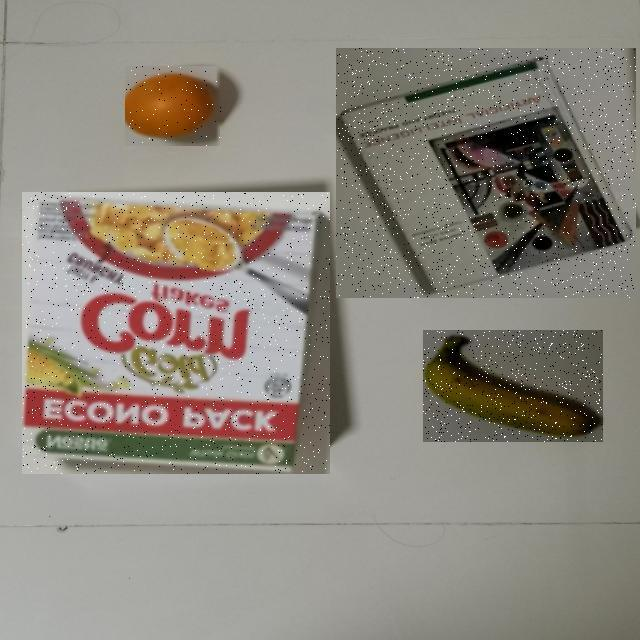Banana: (423, 330, 603, 442)
Book: (336, 48, 636, 298)
Cereal: (22, 193, 330, 475)
Orange: (126, 66, 222, 146)
